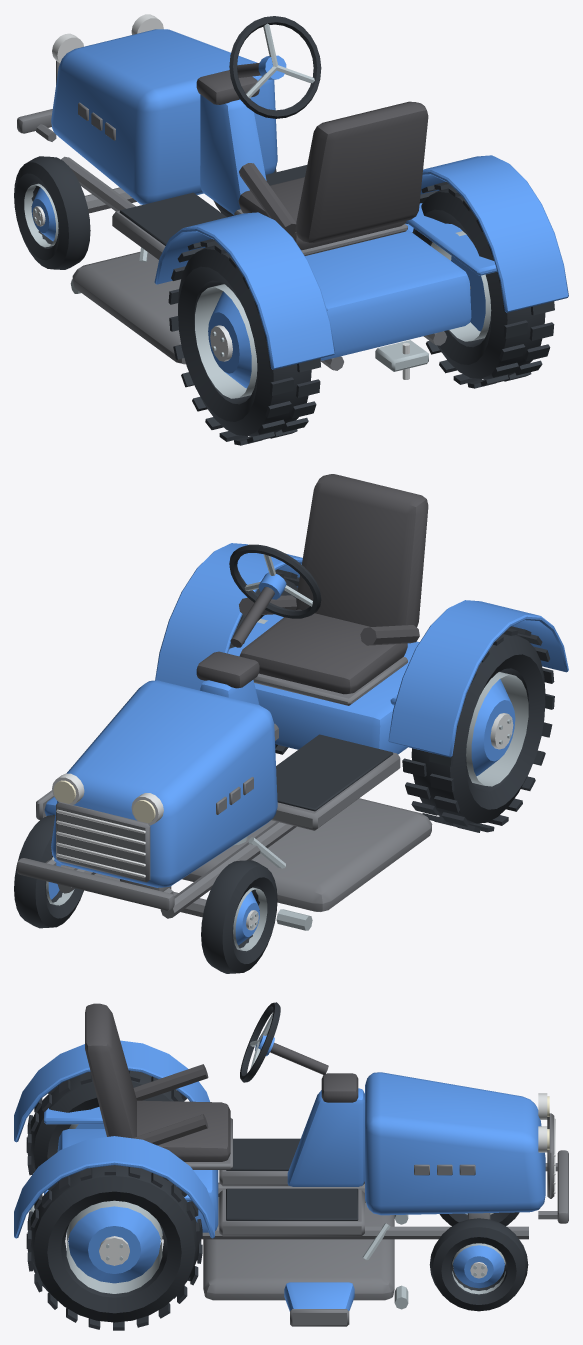
File: TurfRocket.fbx
The picture shows the model from 3 angles, top to bottom: view 1: azimuth 30°, elevation 25°; view 2: azimuth 150°, elevation 25°; view 3: azimuth 270°, elevation 25°; orthographic projection. The views are drawn at different scales.
Visible parts, largest first — view 1: Body__paint, Body__interior, WheelRL__rubber, Body__engine, WheelRR__rubber, WheelFL__rubber, Body__rubber, WheelRL__metal, Steer__rubber, WheelRL__paint, Body__metal, Body__chrome (+6 smaller); view 2: Body__paint, Body__interior, Body__engine, WheelRL__rubber, WheelFL__rubber, Body__rubber, WheelFR__rubber, WheelRL__metal, Body__chrome, WheelRL__paint, Steer__rubber, Body__metal (+4 smaller); view 3: Body__paint, Body__engine, WheelRR__rubber, Body__interior, Body__rubber, WheelFR__rubber, WheelRR__paint, WheelRL__rubber, WheelRR__metal, WheelFR__paint, Steer__rubber, Body__metal (+4 smaller).
Boxes of the visible parts, left/top/right/bottom form: Body__paint: left=51, top=29, right=568, bottom=369; Body__interior: left=196, top=62, right=428, bottom=250; WheelRL__rubber: left=168, top=239, right=320, bottom=445; Body__engine: left=17, top=61, right=470, bottom=370; WheelRR__rubber: left=406, top=182, right=554, bottom=388; WheelFL__rubber: left=14, top=156, right=90, bottom=269; Body__rubber: left=119, top=165, right=307, bottom=245; WheelRL__metal: left=195, top=284, right=257, bottom=398; Steer__rubber: left=229, top=16, right=321, bottom=118; WheelRL__paint: left=208, top=291, right=251, bottom=388; Body__metal: left=70, top=247, right=428, bottom=371; Body__chrome: left=52, top=14, right=409, bottom=379; Body__paint: left=44, top=543, right=568, bottom=887; Body__interior: left=196, top=474, right=428, bottom=694; Body__engine: left=17, top=656, right=432, bottom=918; WheelRL__rubber: left=402, top=626, right=554, bottom=832; WheelFL__rubber: left=201, top=860, right=277, bottom=973; Body__rubber: left=276, top=734, right=393, bottom=811; WheelFR__rubber: left=14, top=815, right=83, bottom=928; WheelRL__metal: left=466, top=672, right=528, bottom=786; Body__chrome: left=52, top=773, right=163, bottom=877; WheelRL__paint: left=471, top=679, right=515, bottom=776; Steer__rubber: left=229, top=544, right=321, bottom=618; Body__metal: left=234, top=836, right=312, bottom=930; Body__paint: left=14, top=1040, right=545, bottom=1311; Body__engine: left=160, top=1113, right=568, bottom=1326; WheelRR__rubber: left=26, top=1165, right=202, bottom=1330; Body__interior: left=85, top=1003, right=358, bottom=1161; Body__rubber: left=226, top=1138, right=358, bottom=1220; WheelFR__rubber: left=429, top=1218, right=528, bottom=1311; WheelRR__paint: left=68, top=1206, right=160, bottom=1283; WheelRL__rubber: left=26, top=1070, right=187, bottom=1175; WheelRR__metal: left=66, top=1200, right=162, bottom=1293; WheelFR__paint: left=453, top=1245, right=504, bottom=1288; Steer__rubber: left=240, top=1002, right=280, bottom=1082; Body__metal: left=30, top=1200, right=408, bottom=1309.
Bounding box in the file's own units: 1.44 × 1.29 × 2.44.
